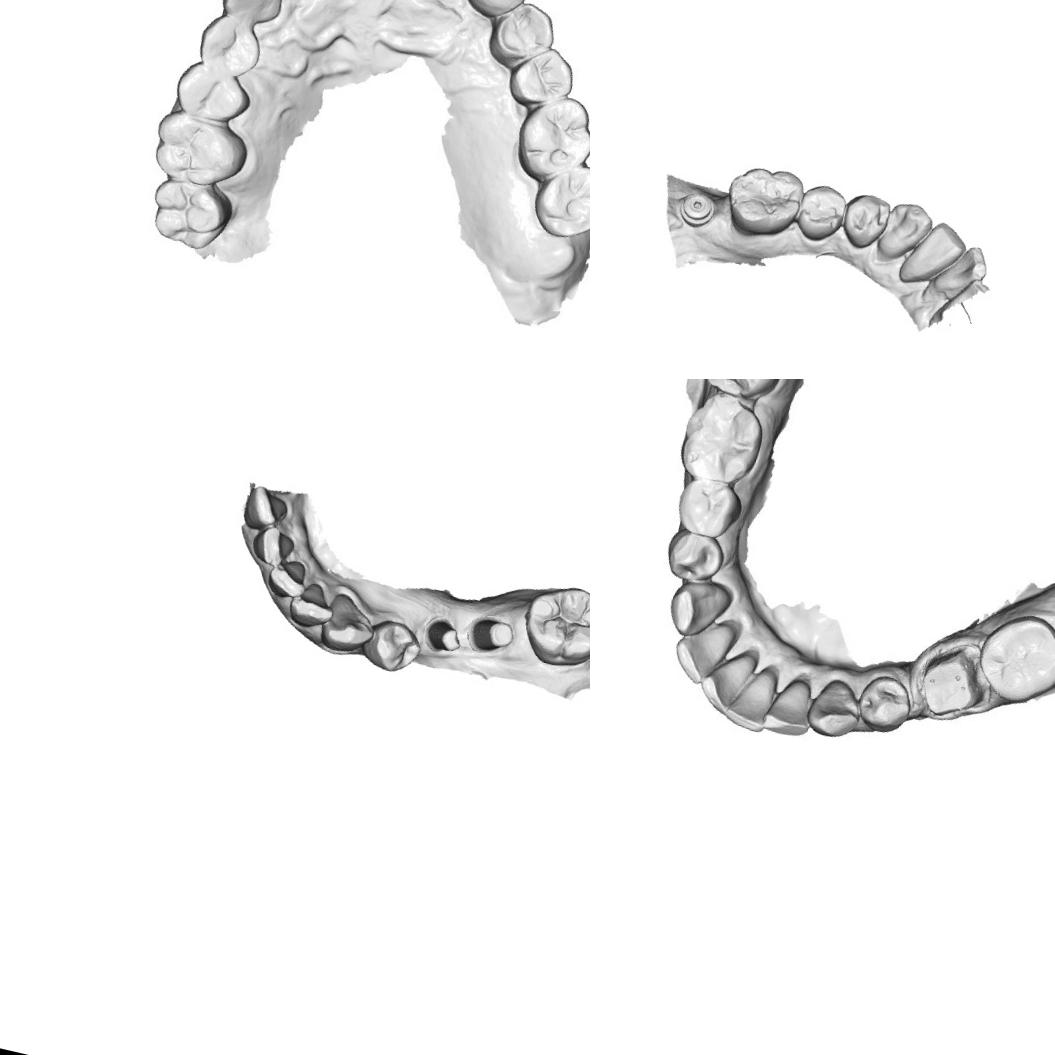abutment: (468, 609, 520, 659), (420, 610, 468, 660)
canine: (657, 574, 738, 646), (872, 195, 938, 266), (805, 674, 870, 746), (320, 588, 385, 659), (220, 0, 288, 22), (470, 0, 532, 19)
crown: (914, 642, 986, 728)
implant: (676, 188, 720, 232)
incisor: (895, 213, 972, 294), (666, 615, 738, 693), (694, 641, 758, 723), (759, 668, 824, 743), (192, 10, 262, 78), (723, 660, 779, 736), (928, 236, 992, 302), (234, 480, 292, 536), (286, 580, 340, 632), (264, 553, 318, 603), (246, 519, 300, 569)
molar: (674, 392, 767, 490), (150, 107, 252, 193), (718, 158, 808, 246), (514, 574, 590, 674), (975, 611, 1055, 703), (514, 92, 590, 183), (146, 174, 230, 256), (527, 160, 590, 242), (700, 379, 788, 402)
premolar: (172, 56, 250, 124), (849, 667, 916, 738), (361, 614, 427, 682), (675, 470, 741, 538), (660, 524, 730, 588), (510, 45, 578, 110), (791, 179, 852, 248), (836, 187, 894, 255), (493, 1, 558, 60)
